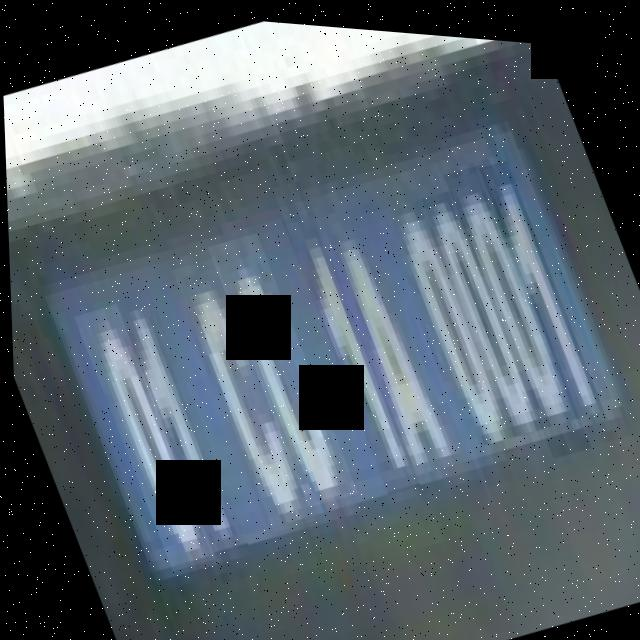0: (442, 154, 590, 452), (71, 300, 212, 571), (386, 189, 518, 453), (420, 181, 542, 431)
1: (280, 204, 418, 492), (106, 283, 246, 559), (478, 150, 606, 421)
A: (316, 200, 462, 470)
C: (206, 226, 356, 507), (170, 251, 314, 531)
